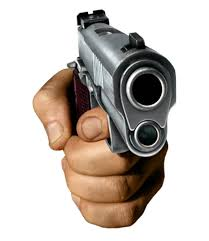gun: (52, 9, 177, 229)
